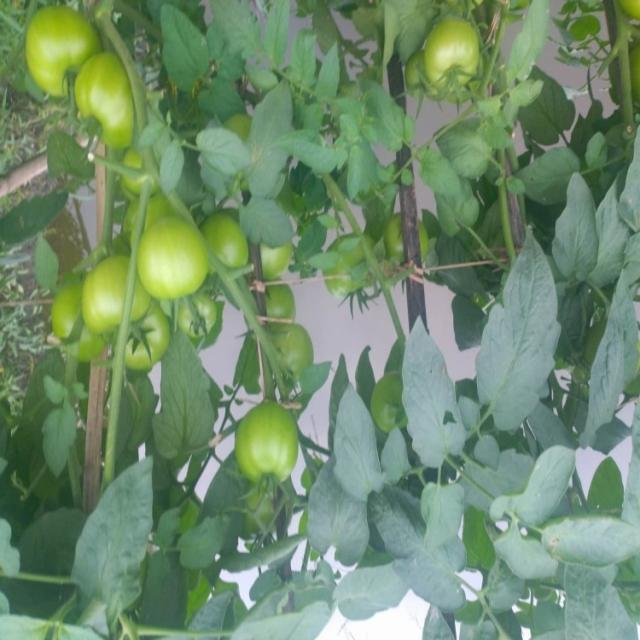tomato: (25, 4, 100, 96), (133, 223, 213, 302), (81, 46, 140, 153), (40, 282, 110, 365), (75, 258, 154, 331), (418, 19, 485, 99), (243, 403, 302, 493), (201, 202, 254, 274), (266, 316, 322, 383), (123, 312, 178, 376), (325, 239, 373, 296), (368, 374, 408, 430), (173, 299, 221, 342), (264, 289, 289, 320)
